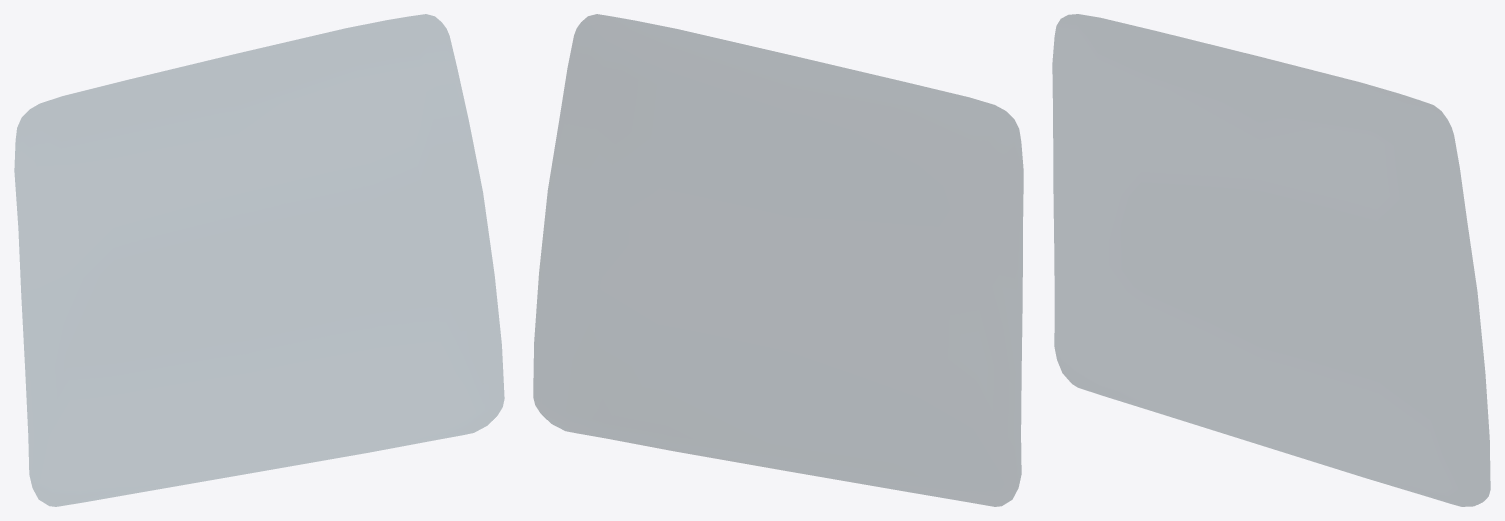
The picture shows the model from 3 angles, left to right: view 1: azimuth 30°, elevation 25°; view 2: azimuth 150°, elevation 25°; view 3: azimuth 330°, elevation 25°; orthographic projection. The views are drawn at different scales.
Visible parts, largest first — view 1: SM_ActrosFiretruck_Door_FR_Glass_Int1; view 2: SM_ActrosFiretruck_Door_FR_Glass_Int1; view 3: SM_ActrosFiretruck_Door_FR_Glass_Int1.
Boxes of the visible parts, x1,y1,x2,y2 form: SM_ActrosFiretruck_Door_FR_Glass_Int1: [14, 14, 504, 506]; SM_ActrosFiretruck_Door_FR_Glass_Int1: [533, 14, 1023, 506]; SM_ActrosFiretruck_Door_FR_Glass_Int1: [1052, 14, 1490, 506].
Size of the model in its own units: 0.9626 by 0.8157 by 0.0325.
